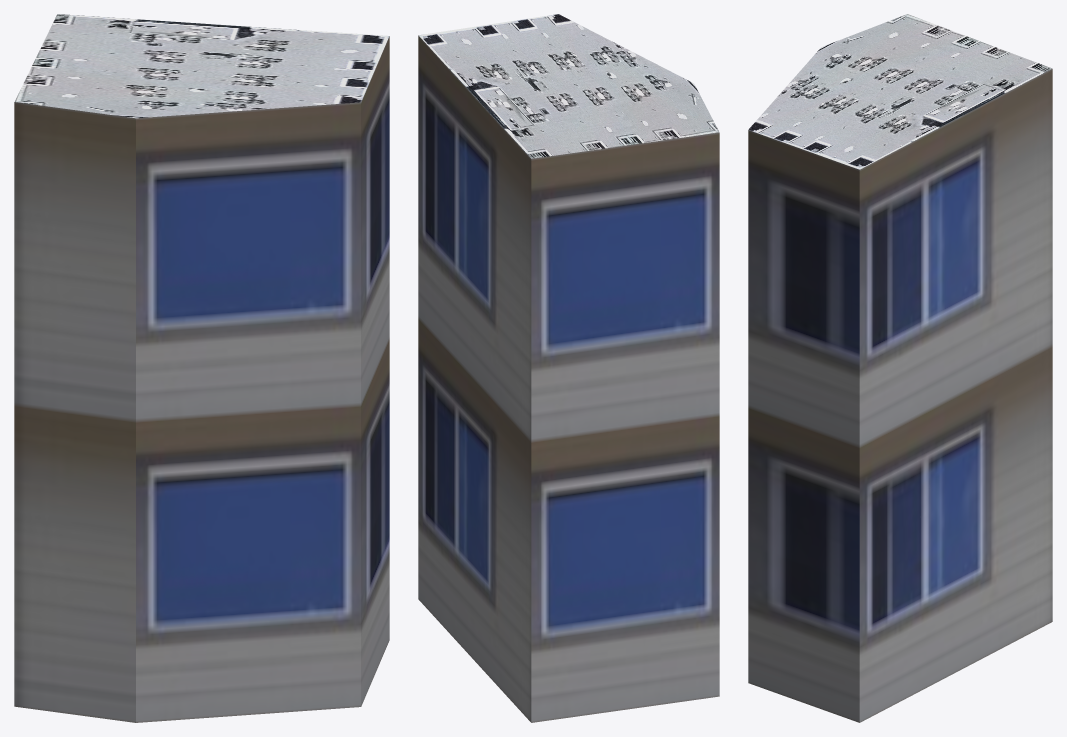
File: ResTex__2907.fbx
The picture shows the model from 3 angles, left to right: view 1: azimuth 30°, elevation 25°; view 2: azimuth 150°, elevation 25°; view 3: azimuth 270°, elevation 25°; orthographic projection. The views are drawn at different scales.
Parts seen in each view (by area): view 1: CityEngineMaterial_23_m, CityEngineMaterial_4_m; view 2: CityEngineMaterial_23_m, CityEngineMaterial_4_m; view 3: CityEngineMaterial_23_m, CityEngineMaterial_4_m.
Boxes of the visible parts, bbox=[...] form: CityEngineMaterial_23_m: bbox=[14, 36, 389, 722]; CityEngineMaterial_4_m: bbox=[14, 14, 389, 118]; CityEngineMaterial_23_m: bbox=[418, 35, 719, 722]; CityEngineMaterial_4_m: bbox=[419, 14, 719, 158]; CityEngineMaterial_23_m: bbox=[748, 69, 1052, 722]; CityEngineMaterial_4_m: bbox=[748, 14, 1052, 169].
Size of the model in its own units: 3.62 by 6 by 2.99.
2 materials, 2 textured.
